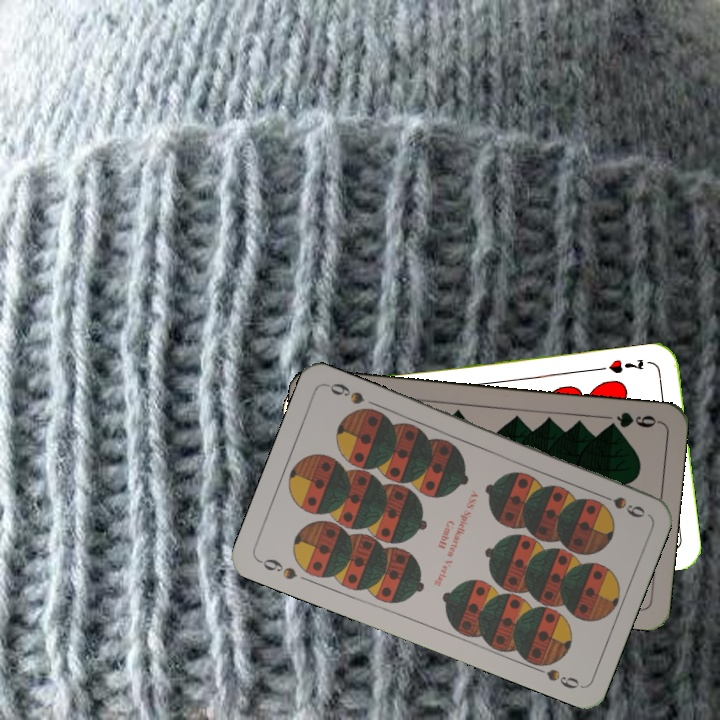G9: (602, 408, 662, 432)
H7: (605, 354, 647, 376)
S9: (592, 488, 648, 521), (254, 554, 300, 582)
